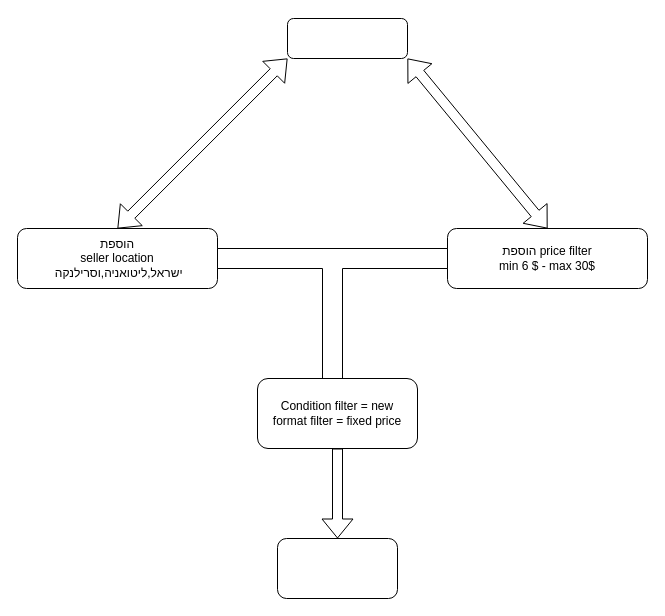
This 665x616 diagram has some shape labels left out. Here are the shapes that lost their labels. From the top down, the centre of each, then its label:
point (347, 38): כניסה ל- Seller Hub וחיפוש לפי מילות מפתח
point (337, 568): סינון לפי total sold
